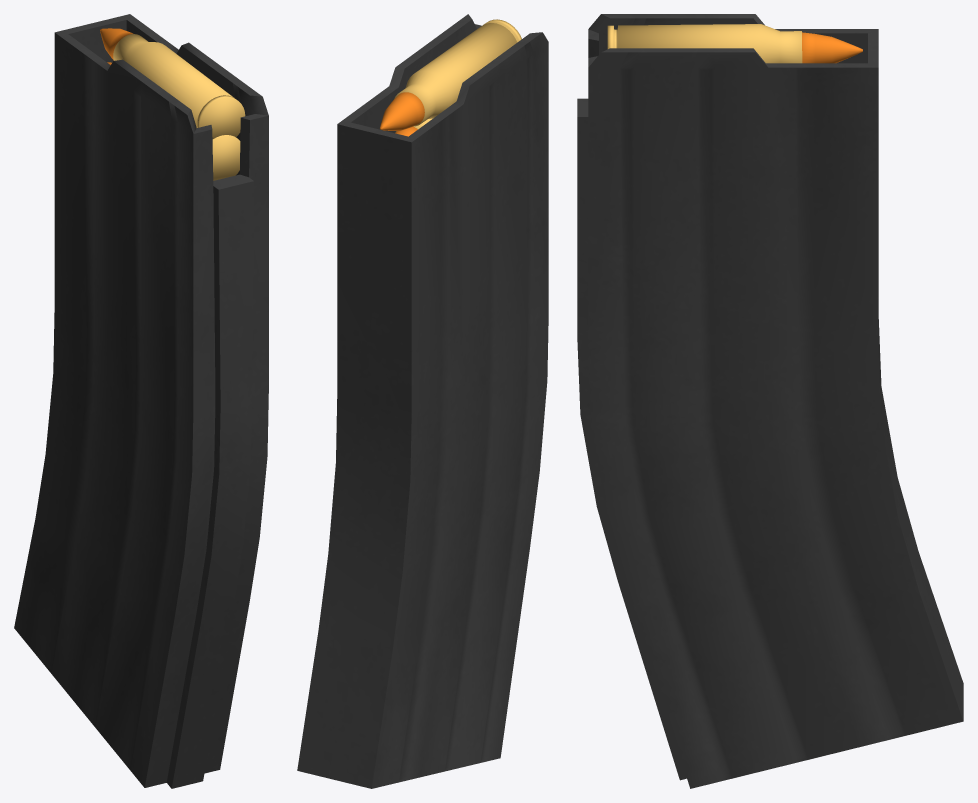
File: m4a1_mag.glb
The picture shows the model from 3 angles, left to right: view 1: azimuth 30°, elevation 25°; view 2: azimuth 150°, elevation 25°; view 3: azimuth 270°, elevation 25°; orthographic projection. The views are drawn at different scales.
Visible parts, largest first — view 1: Magazine, Cylinder, Cylinder.001; view 2: Magazine, Cylinder; view 3: Magazine, Cylinder.
Boxes of the visible parts, x1,y1,x2,y2 form: Magazine: (14,14,268,788); Cylinder: (100,28,245,138); Cylinder.001: (107,62,240,180); Magazine: (297,14,548,788); Cylinder: (380,19,521,130); Magazine: (577,14,963,788); Cylinder: (607,24,862,63).
Bounding box in the file's own units: 0.0206 × 0.1862 × 0.0873.
Materials: 3 (1 with a texture image).
